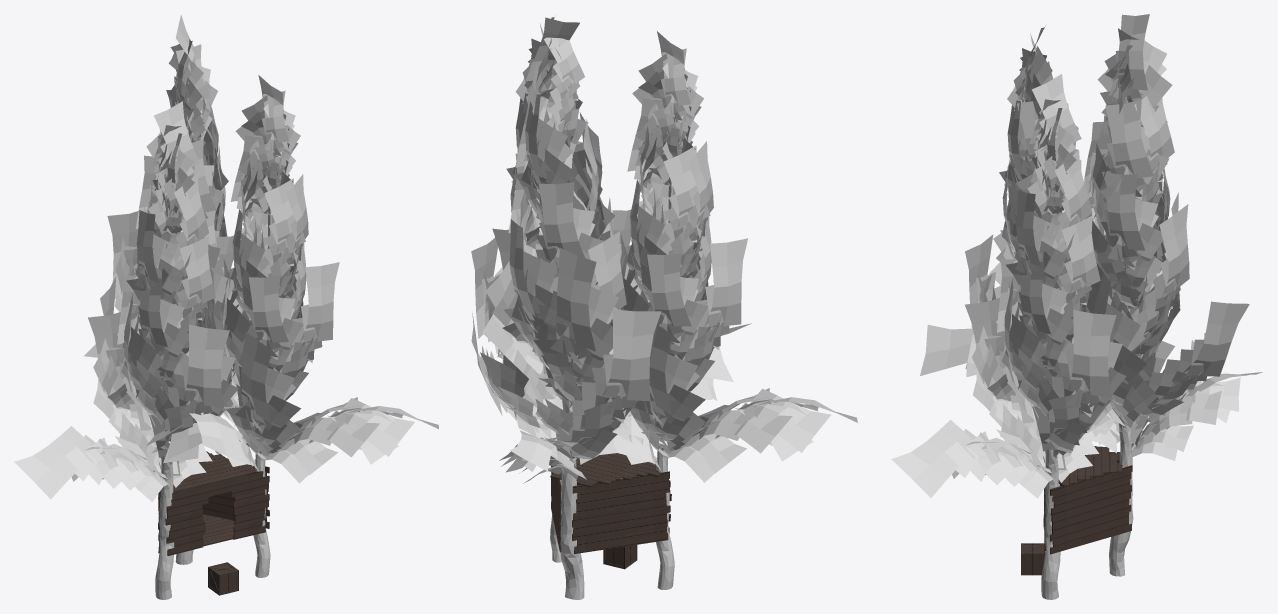
File: Treehouse.fbx
The picture shows the model from 3 angles, left to right: view 1: azimuth 30°, elevation 25°; view 2: azimuth 150°, elevation 25°; view 3: azimuth 270°, elevation 25°; orthographic projection. The views are drawn at different scales.
Parts seen in each view (by area): view 1: Trees, Treehouse, Box; view 2: Trees, Treehouse, Box; view 3: Trees, Treehouse, Box.
Boxes of the visible parts, box(x1,y1,x2,y2) form: Trees: box(14, 14, 438, 599); Treehouse: box(158, 451, 269, 555); Box: box(208, 562, 238, 595); Trees: box(471, 17, 858, 599); Treehouse: box(550, 453, 671, 553); Box: box(603, 545, 637, 569); Trees: box(891, 14, 1262, 599); Treehouse: box(1044, 446, 1132, 554); Box: box(1021, 543, 1044, 575).
Size of the model in its own units: 981 by 1306 by 780.
